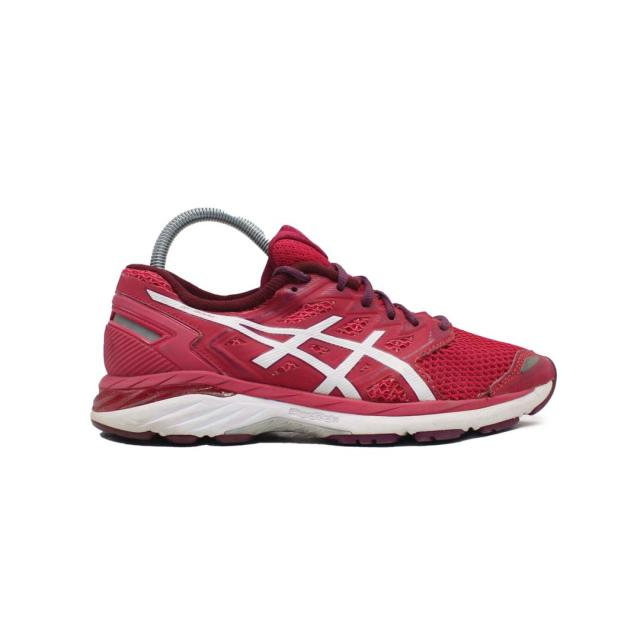heel: (80, 226, 150, 375)
midsole: (95, 377, 562, 448)
uppersole: (149, 216, 562, 395)
